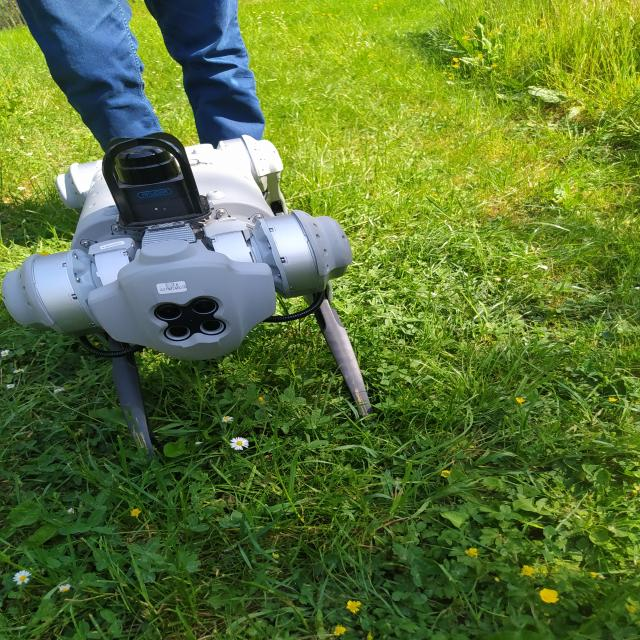unitree-go1-robot: (8, 141, 395, 456)
